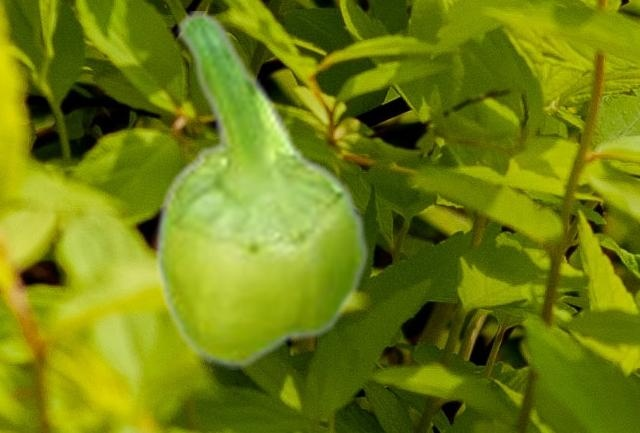bell_pepper: (153, 11, 369, 368)
